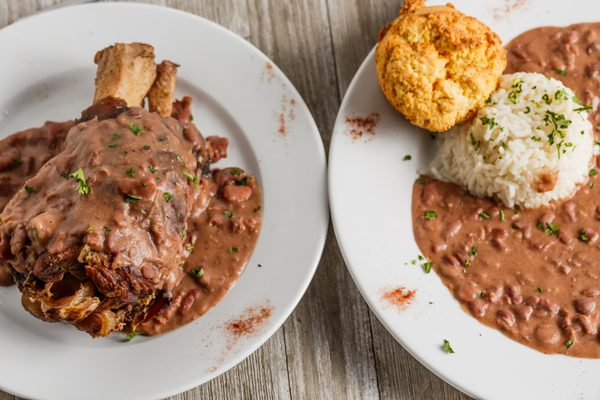curry: (0, 0, 599, 393)
salad: (375, 0, 508, 133)
